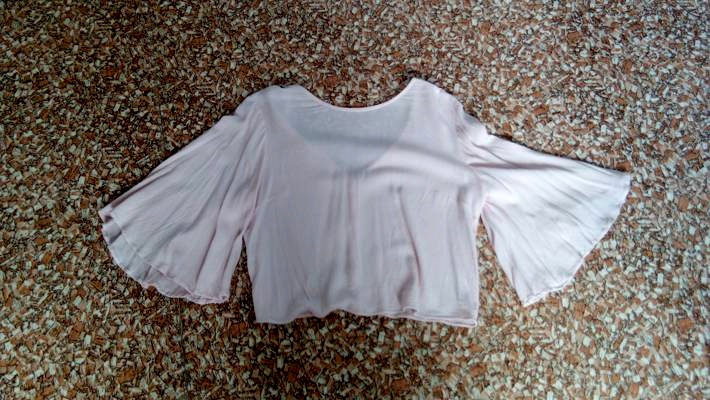Blouse: (100, 52, 656, 350)
